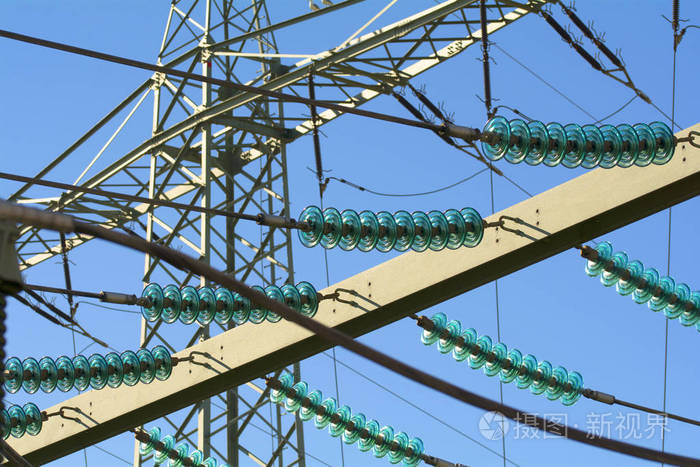insulator: (424, 312, 584, 404), (272, 375, 425, 467), (586, 243, 700, 324), (481, 119, 675, 166), (296, 207, 483, 251), (144, 279, 319, 324), (6, 346, 172, 392), (137, 427, 224, 466), (1, 400, 39, 440)
